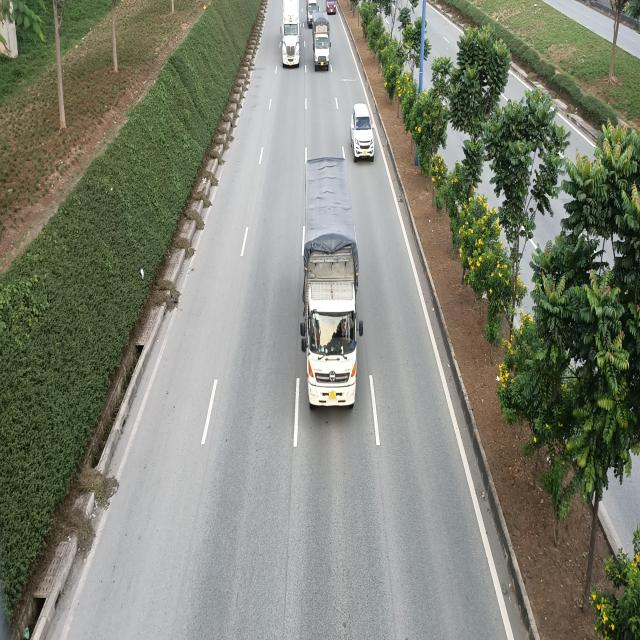car: (351, 105, 375, 159)
container: (280, 0, 301, 67)
truck: (299, 155, 363, 411), (314, 10, 331, 70), (306, 0, 318, 27)
